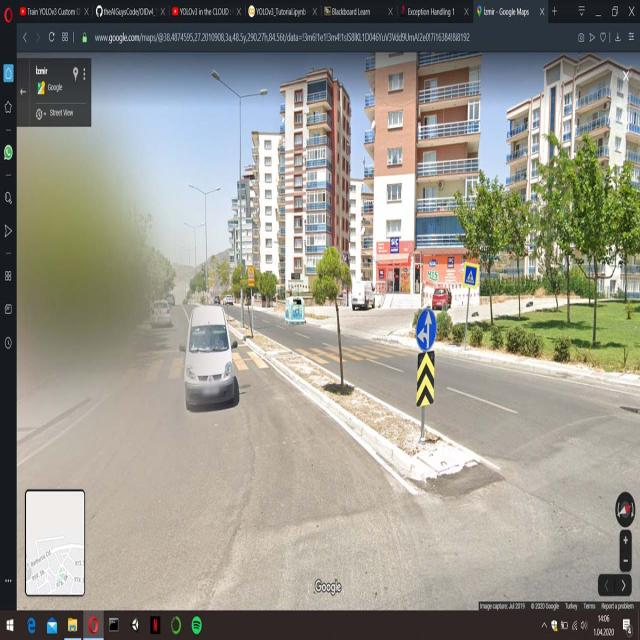ilerisol: (418, 308, 437, 350)
